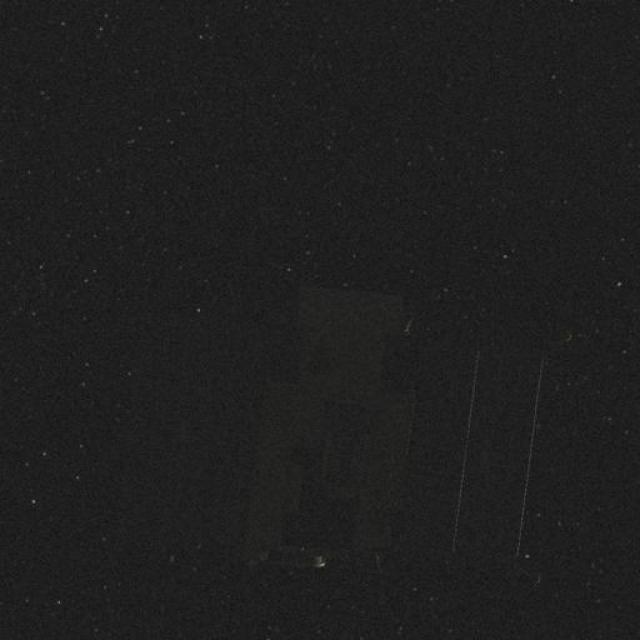proba_2: (195, 260, 524, 580)
